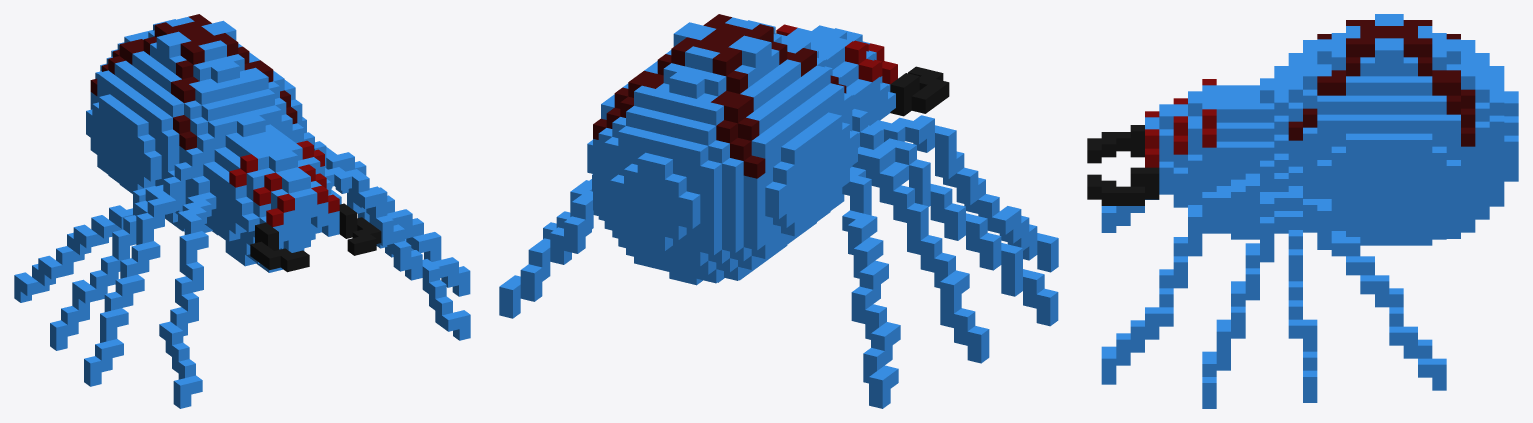
Rendered from spider.obj.
The picture shows the model from 3 angles, left to right: view 1: azimuth 30°, elevation 25°; view 2: azimuth 150°, elevation 25°; view 3: azimuth 270°, elevation 25°; orthographic projection. The views are drawn at different scales.
Parts seen in each view (by area): view 1: spider; view 2: spider; view 3: spider.
Part boxes in pixels (x1=…): spider: x1=14, y1=14, x2=470, y2=408; spider: x1=499, y1=14, x2=1058, y2=408; spider: x1=1087, y1=14, x2=1518, y2=408.
Size of the model in its own units: 34 by 21 by 30.
